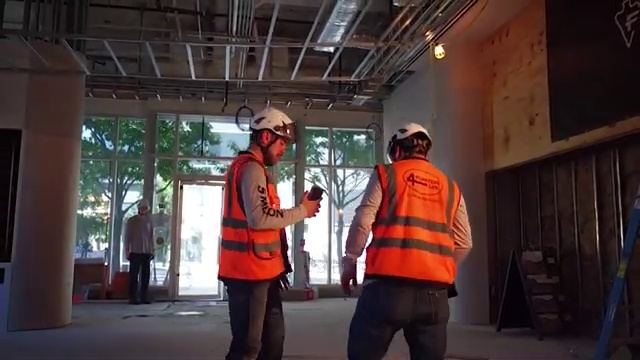helmet: (247, 103, 300, 141), (387, 117, 431, 153)
jacket: (358, 153, 461, 288), (221, 150, 294, 283)
